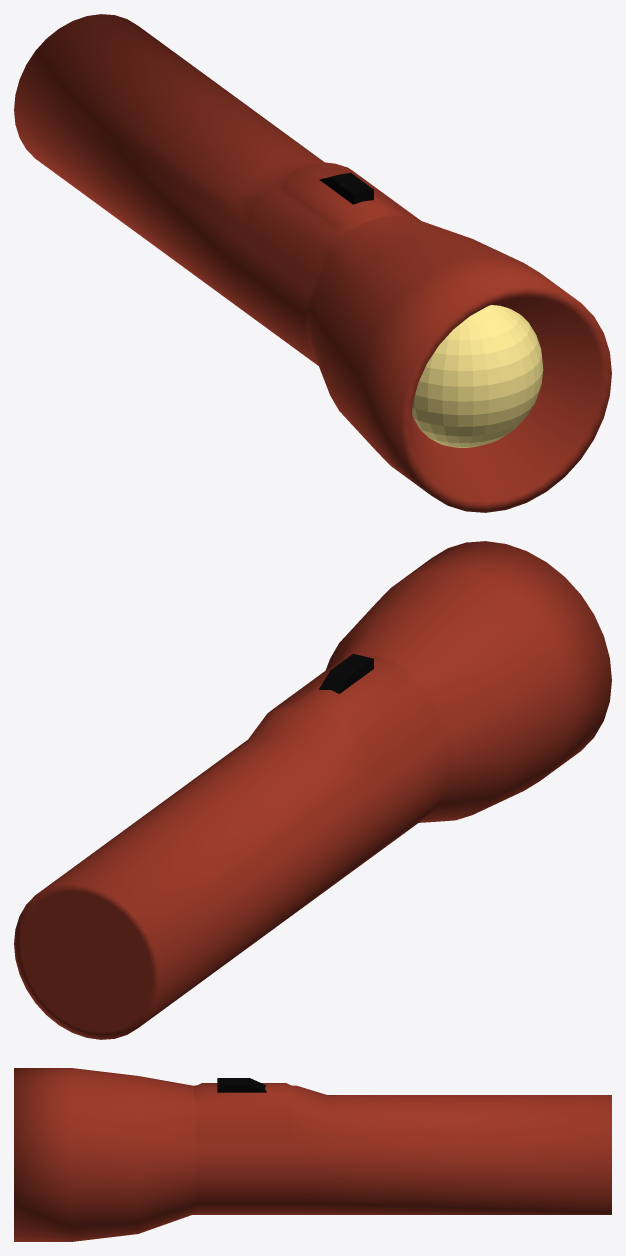
The model's file is Flashlight.fbx.
3 views of the same model, one above another, from view 1: azimuth 30°, elevation 25°; view 2: azimuth 150°, elevation 25°; view 3: azimuth 270°, elevation 25° (orthographic). The views are drawn at different scales.
Visible parts, largest first — view 1: Lanterna_Cylinder, Sphere, Cube; view 2: Lanterna_Cylinder, Cube; view 3: Lanterna_Cylinder, Cube.
Boxes of the visible parts, x1=… form: Lanterna_Cylinder: x1=14, y1=14, x2=611, y2=512; Sphere: x1=412, y1=305, x2=543, y2=447; Cube: x1=319, y1=172, x2=373, y2=204; Lanterna_Cylinder: x1=14, y1=541, x2=611, y2=1039; Cube: x1=319, y1=653, x2=373, y2=693; Lanterna_Cylinder: x1=14, y1=1068, x2=611, y2=1241; Cube: x1=217, y1=1078, x2=266, y2=1092.
Size of the model in its own units: 128 by 128 by 441.
